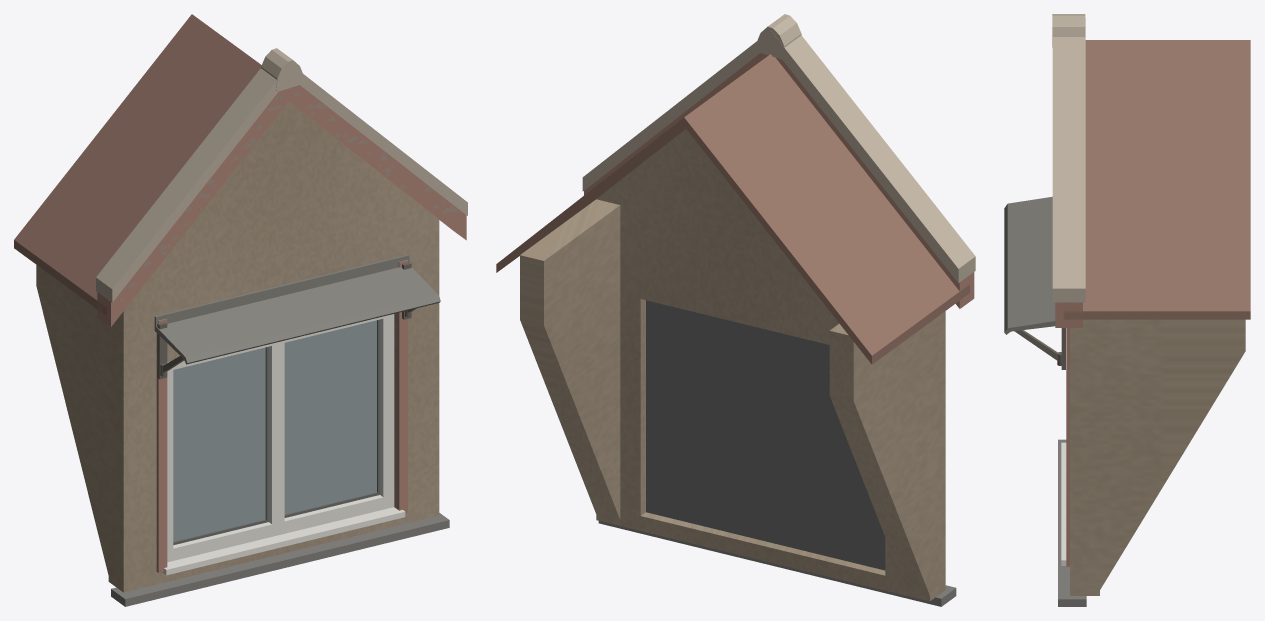
File: lintong-dormer-near.glb
The picture shows the model from 3 angles, left to right: view 1: azimuth 30°, elevation 25°; view 2: azimuth 150°, elevation 25°; view 3: azimuth 270°, elevation 25°; orthographic projection. The views are drawn at different scales.
Visible parts, largest first — view 1: 临潼路99弄住宅三角檐老虎窗与挑篷; view 2: 临潼路99弄住宅三角檐老虎窗与挑篷; view 3: 临潼路99弄住宅三角檐老虎窗与挑篷.
Part boxes in pixels (box(x1,y1,x2,y2)): 临潼路99弄住宅三角檐老虎窗与挑篷: box(14, 14, 467, 606); 临潼路99弄住宅三角檐老虎窗与挑篷: box(496, 14, 975, 606); 临潼路99弄住宅三角檐老虎窗与挑篷: box(1004, 14, 1250, 606).
Size of the model in its own units: 2.5 by 3.42 by 1.49.
11 materials, 1 textured.
